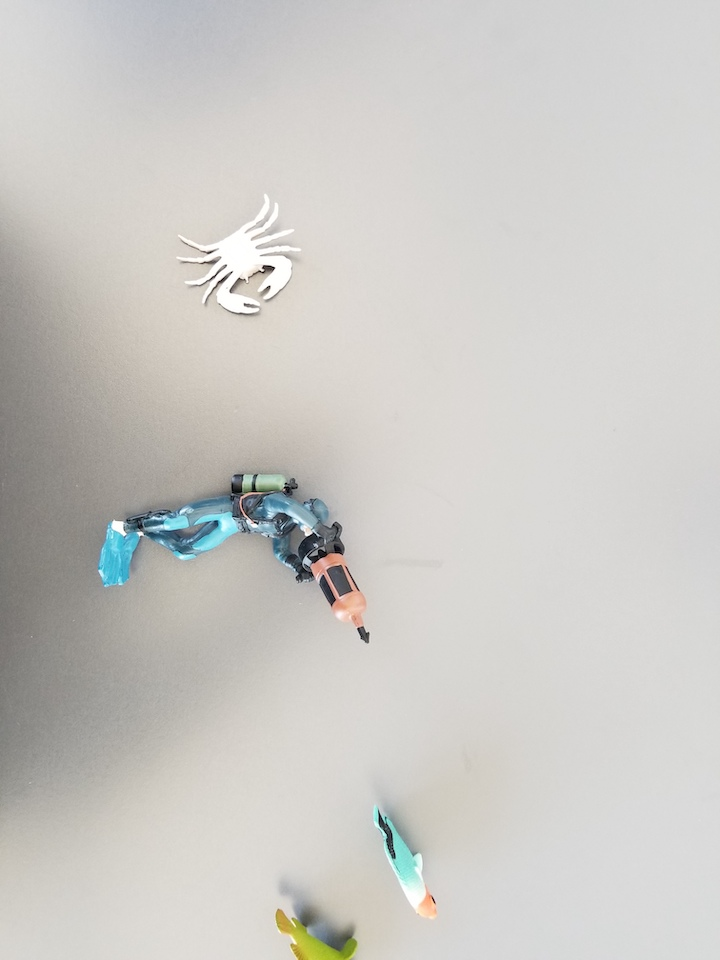crab: (174, 190, 301, 315)
diver: (96, 470, 375, 646)
fish: (370, 798, 443, 923), (272, 907, 361, 960)
